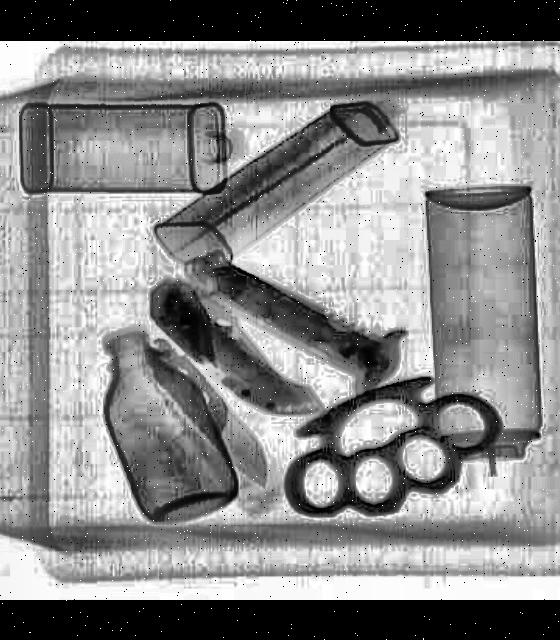Knife: (254, 345, 518, 557), (132, 268, 324, 446), (174, 247, 402, 393), (132, 332, 280, 498)
